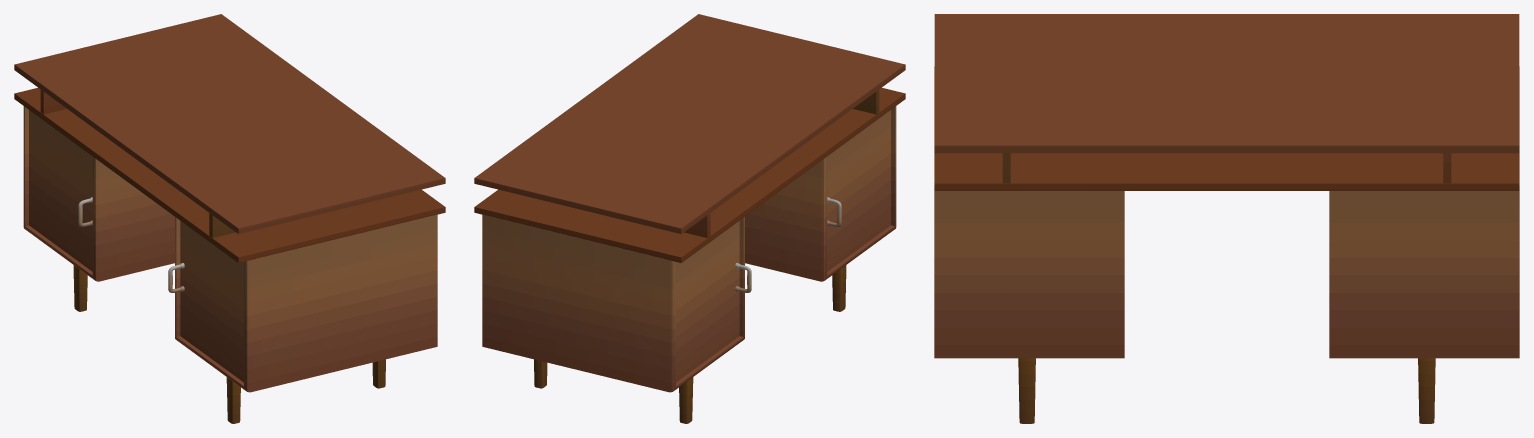
File: desk.fbx
The picture shows the model from 3 angles, left to right: view 1: azimuth 30°, elevation 25°; view 2: azimuth 150°, elevation 25°; view 3: azimuth 270°, elevation 25°; orthographic projection. The views are drawn at different scales.
Parts seen in each view (by area): view 1: desk; view 2: desk; view 3: desk.
Boxes of the visible parts, box(x1,y1,x2,y2) form: desk: box(14, 14, 445, 423); desk: box(474, 14, 905, 423); desk: box(934, 14, 1519, 423).
Bounding box in the file's own units: 134 × 138 × 248.
